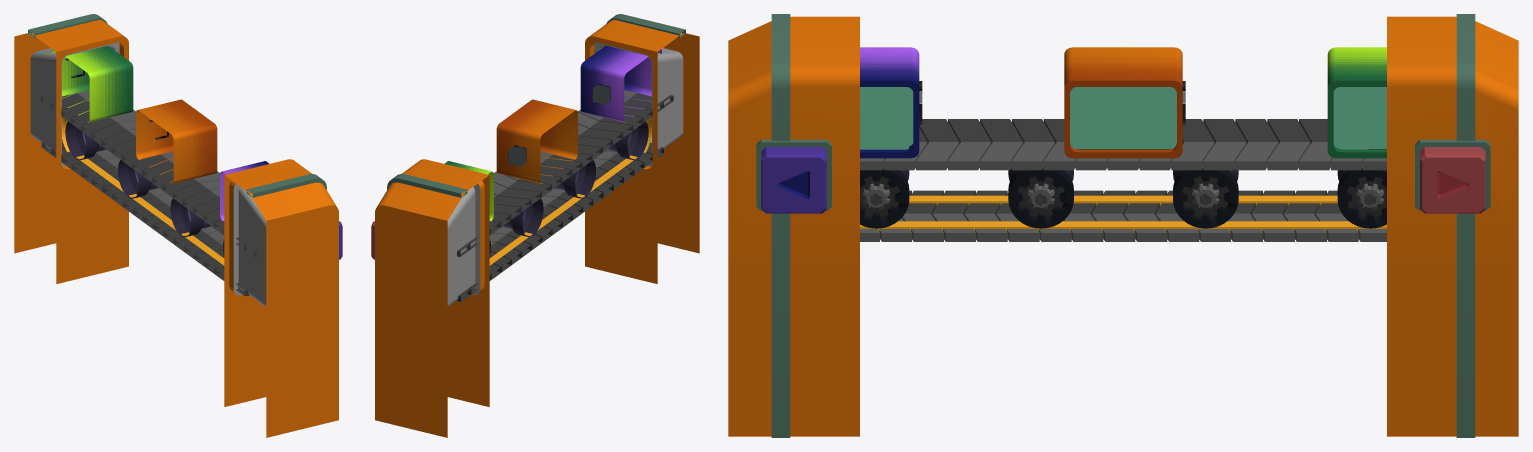
File: conveyor.glb
The picture shows the model from 3 angles, left to right: view 1: azimuth 30°, elevation 25°; view 2: azimuth 150°, elevation 25°; view 3: azimuth 270°, elevation 25°; orthographic projection. The views are drawn at different scales.
Parts seen in each view (by area): view 1: Cube.001, Cube.003, Cube.008, Cube.005, Cube.009, Cylinder.005, Cylinder.003, Cylinder.001, Cylinder.002, Cube.010; view 2: Cube.001, Cube.003, Cube.008, Cube.005, Cube.010, Cylinder.005, Cylinder.004, Cylinder.002, Cylinder.001, Cube.009; view 3: Cube.001, Cube.003, Cube.005, Cube.008, Cube.010, Cube.009, Cylinder.005, bttn_left, bttn_right.001, Cylinder.002, Cylinder.001, Cylinder.004 (+1 smaller).
Part boxes in pixels (x1,y1,x2,y2): Cube.001: (14,14,338,437); Cube.003: (41,90,256,257); Cube.008: (136,99,217,183); Cube.005: (41,139,249,296); Cube.009: (52,45,133,122); Cylinder.005: (62,117,224,265); Cylinder.003: (65,121,106,160); Cylinder.001: (170,198,211,237); Cylinder.002: (118,160,158,198); Cube.010: (220,161,269,221); Cube.001: (375,14,699,437); Cube.003: (457,90,673,256); Cube.008: (496,99,577,183); Cube.005: (457,142,663,301); Cube.010: (580,45,661,122); Cylinder.005: (489,118,651,265); Cylinder.004: (607,121,648,160); Cylinder.002: (502,198,543,237); Cylinder.001: (555,160,595,198); Cube.009: (444,161,493,221); Cube.001: (728,14,1518,437); Cube.003: (860,119,1386,170); Cube.005: (860,190,1386,241); Cube.008: (1064,47,1185,158); Cube.010: (860,47,922,158); Cube.009: (1327,47,1386,158); Cylinder.005: (860,168,1386,231); bttn_left: (1415,139,1490,213); bttn_right.001: (756,139,831,213); Cylinder.002: (1173,168,1238,228); Cylinder.001: (1008,168,1073,228); Cylinder.004: (860,168,909,228).
Bounding box in the file's own units: 2.4 × 6.15 × 12.
1 material, 1 textured.
